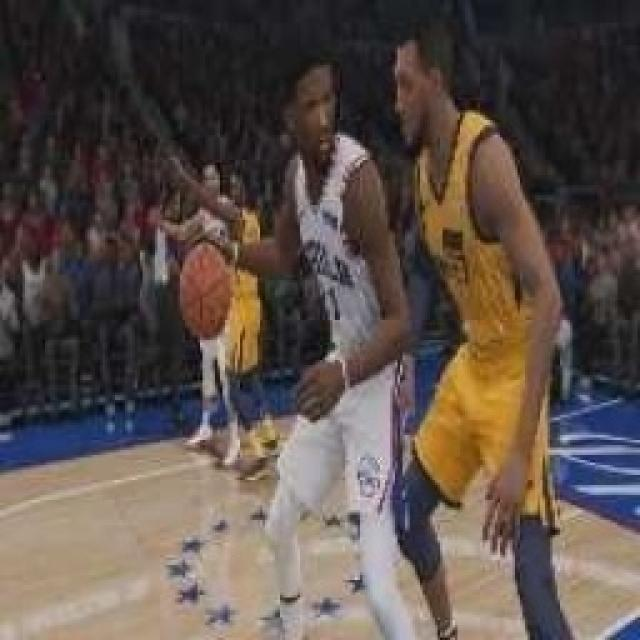rim: (172, 238, 236, 344)
